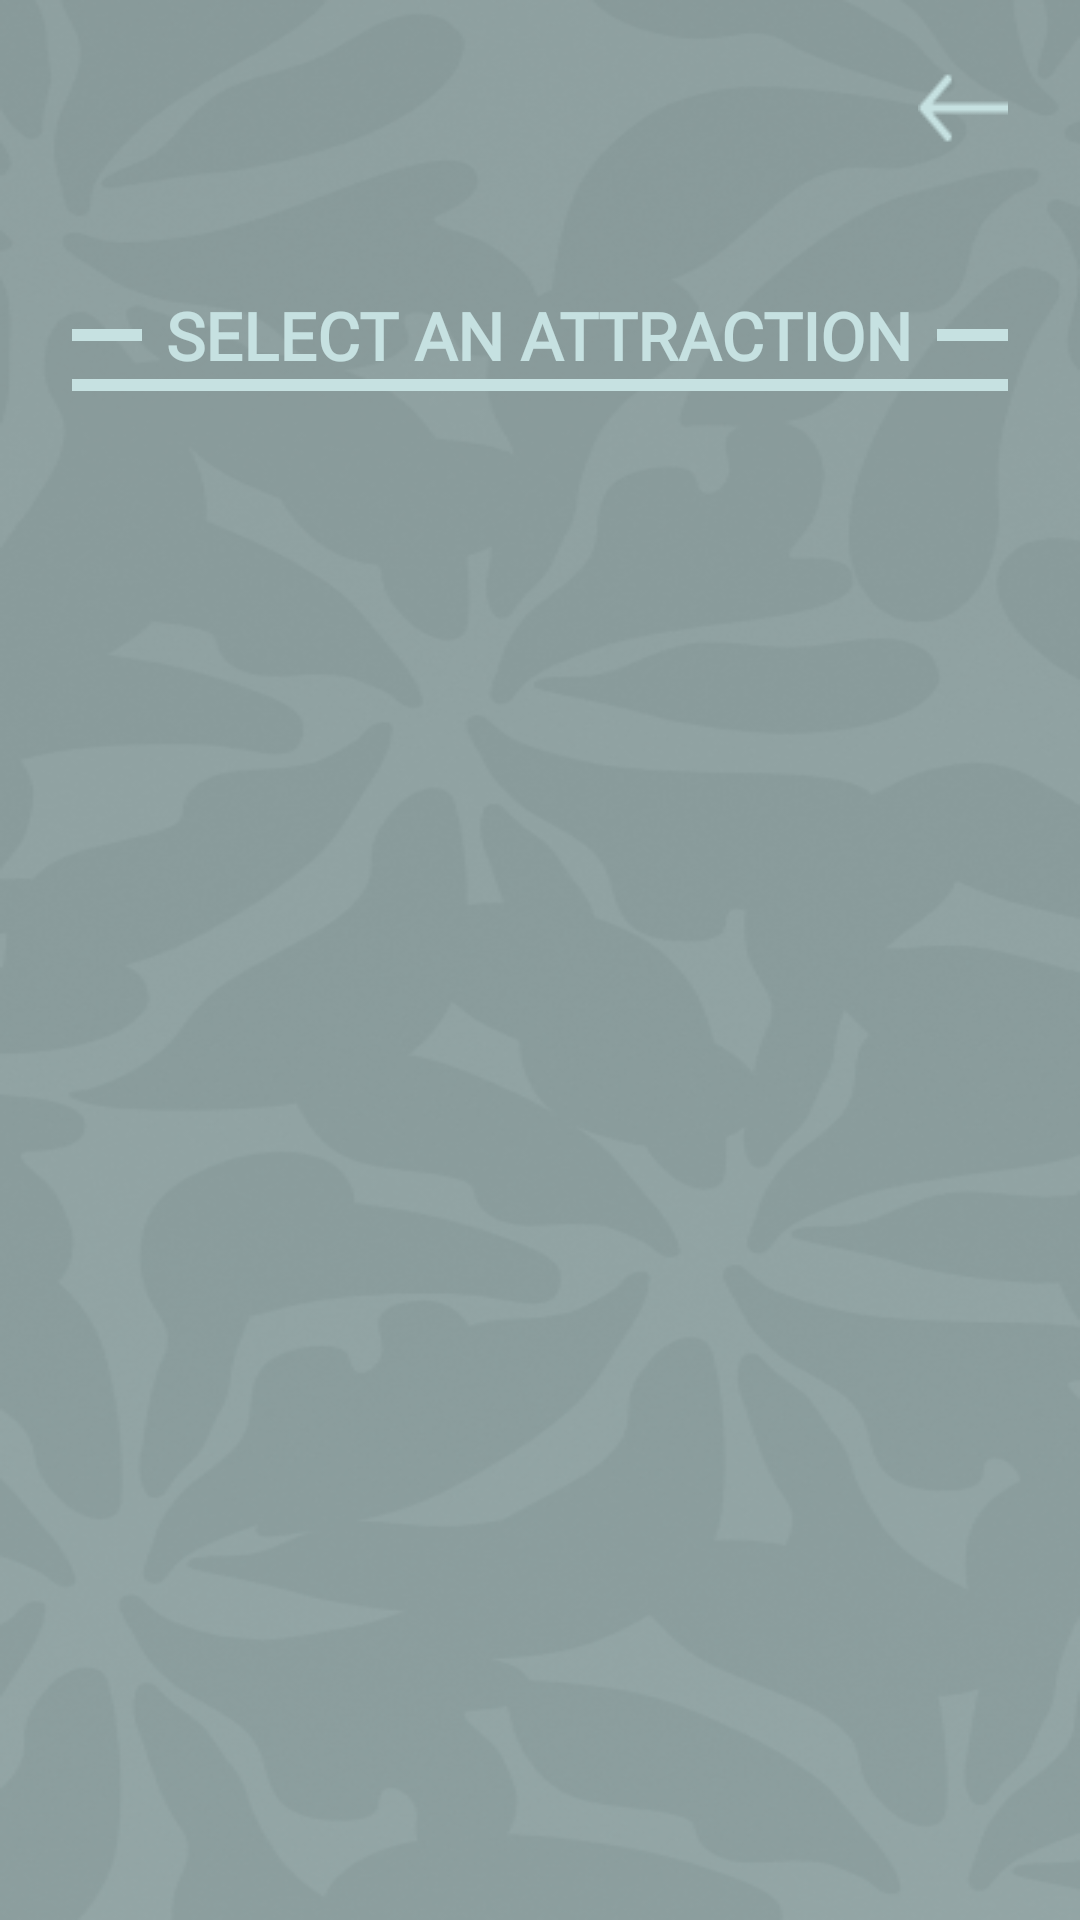

Screen size 1080w x 1920h. Icon name, then its box in pixels as [x1, y1, x2, y2]:
back: [918, 74, 1008, 141]
